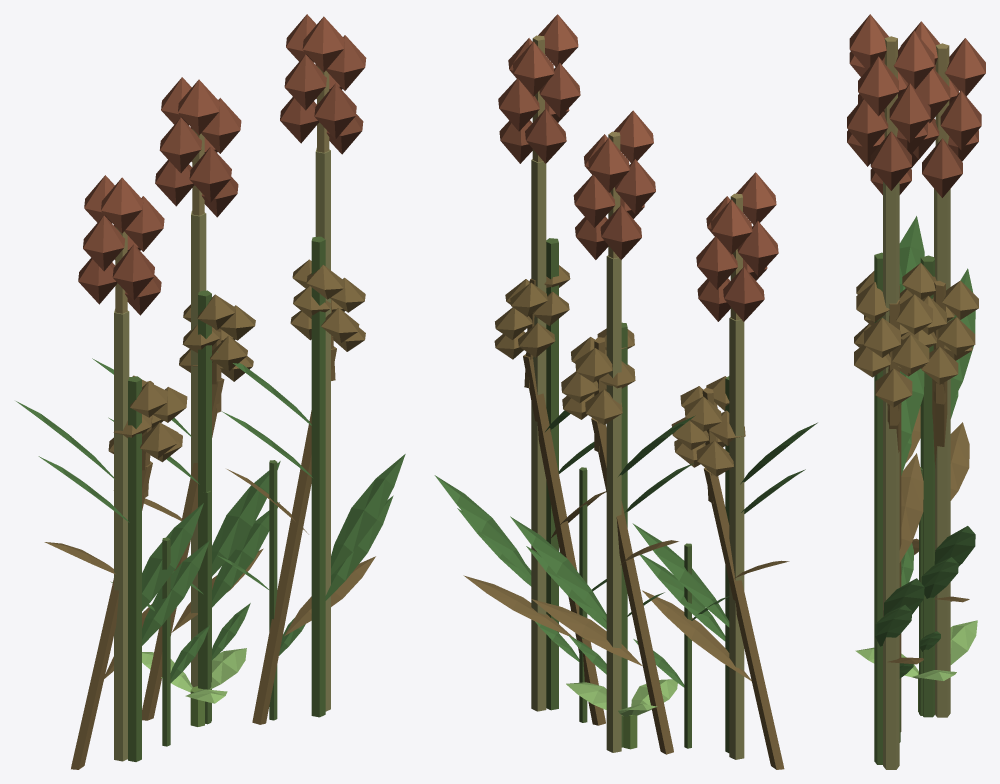
File: autumn_sorghum.glb
3 views of the same model, side by side, from view 1: azimuth 30°, elevation 25°; view 2: azimuth 150°, elevation 25°; view 3: azimuth 270°, elevation 25° (orthographic). The views are drawn at different scales.
Parts seen in each view (by area): view 1: stage3, dead, stage2, stage1, stage0; view 2: stage3, dead, stage2, stage1, stage0; view 3: stage3, dead, stage2, stage1, stage0.
Boxes of the visible parts, x1=… form: stage3: x1=16, y1=14, x2=405, y2=761; dead: x1=44, y1=259, x2=375, y2=769; stage2: x1=38, y1=236, x2=393, y2=761; stage1: x1=110, y1=460, x2=305, y2=746; stage0: x1=142, y1=648, x2=246, y2=726; stage3: x1=434, y1=14, x2=817, y2=759; dead: x1=463, y1=265, x2=789, y2=769; stage2: x1=457, y1=238, x2=805, y2=752; stage1: x1=535, y1=467, x2=729, y2=748; stage0: x1=566, y1=679, x2=677, y2=749; stage3: x1=847, y1=14, x2=985, y2=769; dead: x1=854, y1=263, x2=978, y2=731; stage2: x1=874, y1=252, x2=958, y2=764; stage1: x1=899, y1=467, x2=940, y2=742; stage0: x1=855, y1=620, x2=977, y2=712.
Size of the model in its own units: 0.66 by 1.13 by 0.1901.
